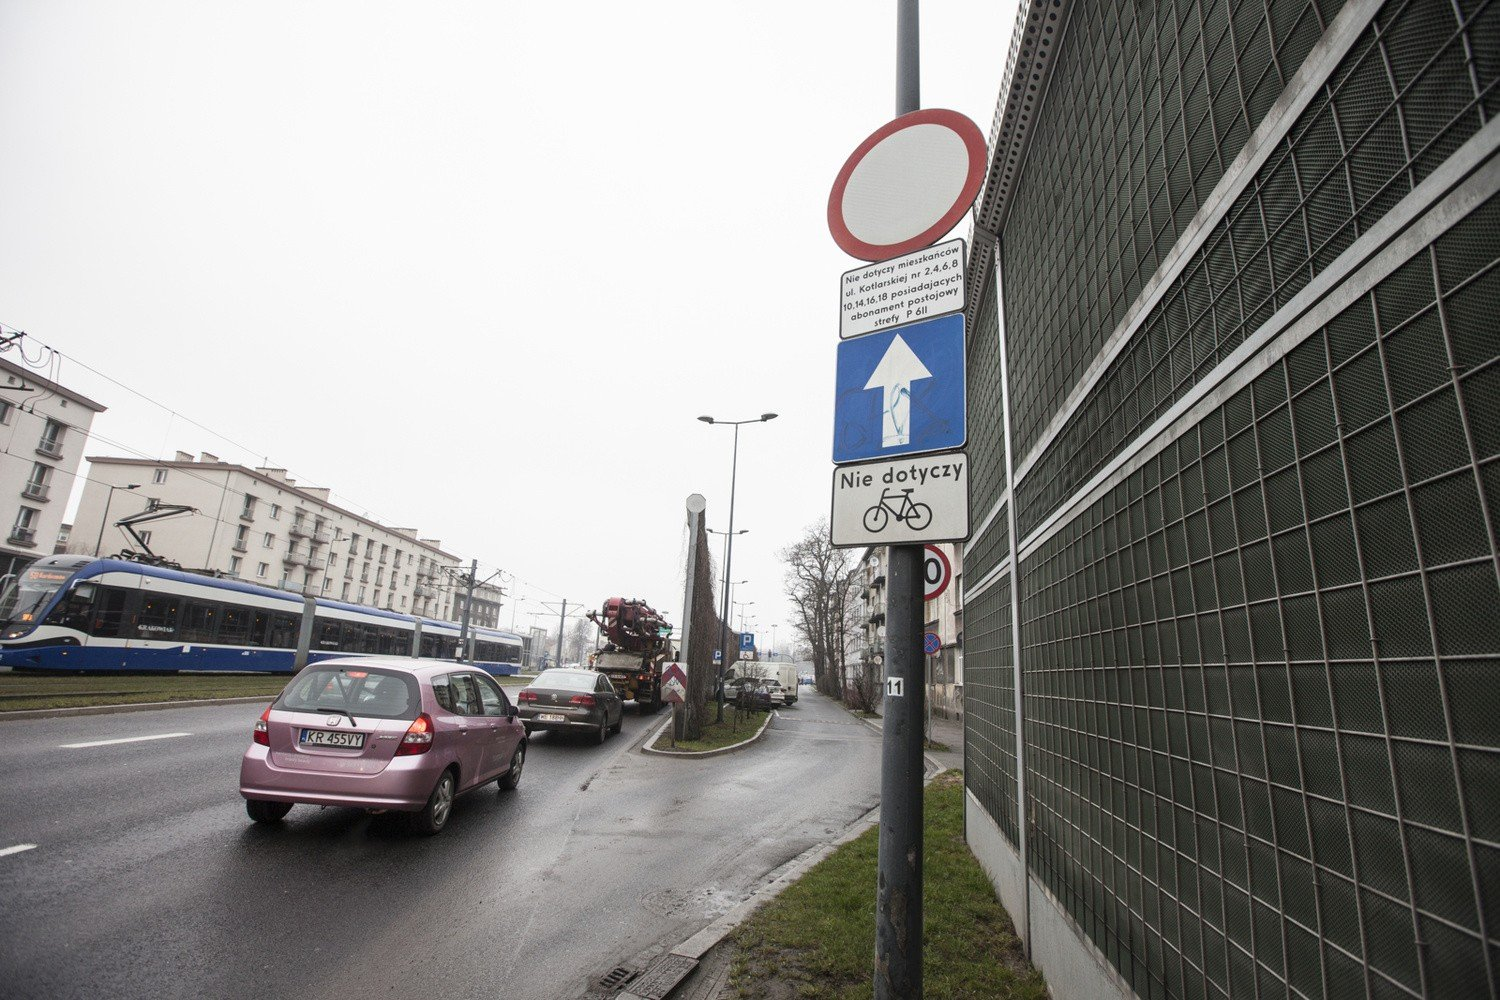no_entry_sign: (825, 109, 988, 260)
